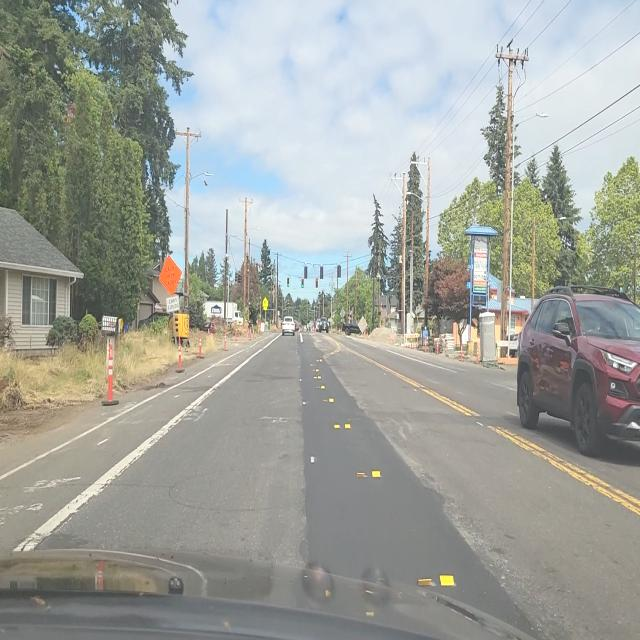car: (512, 282, 639, 460), (504, 332, 520, 356), (341, 321, 362, 336), (282, 316, 296, 336), (318, 318, 329, 334)
crosswalk-sign: (262, 298, 268, 310), (340, 308, 345, 319)
delineator: (177, 337, 183, 372), (198, 333, 203, 358), (475, 340, 480, 364), (459, 339, 464, 362), (223, 328, 227, 351), (234, 326, 238, 343), (436, 339, 440, 354), (251, 324, 255, 338), (248, 324, 251, 338), (258, 322, 261, 336), (242, 326, 245, 337)
